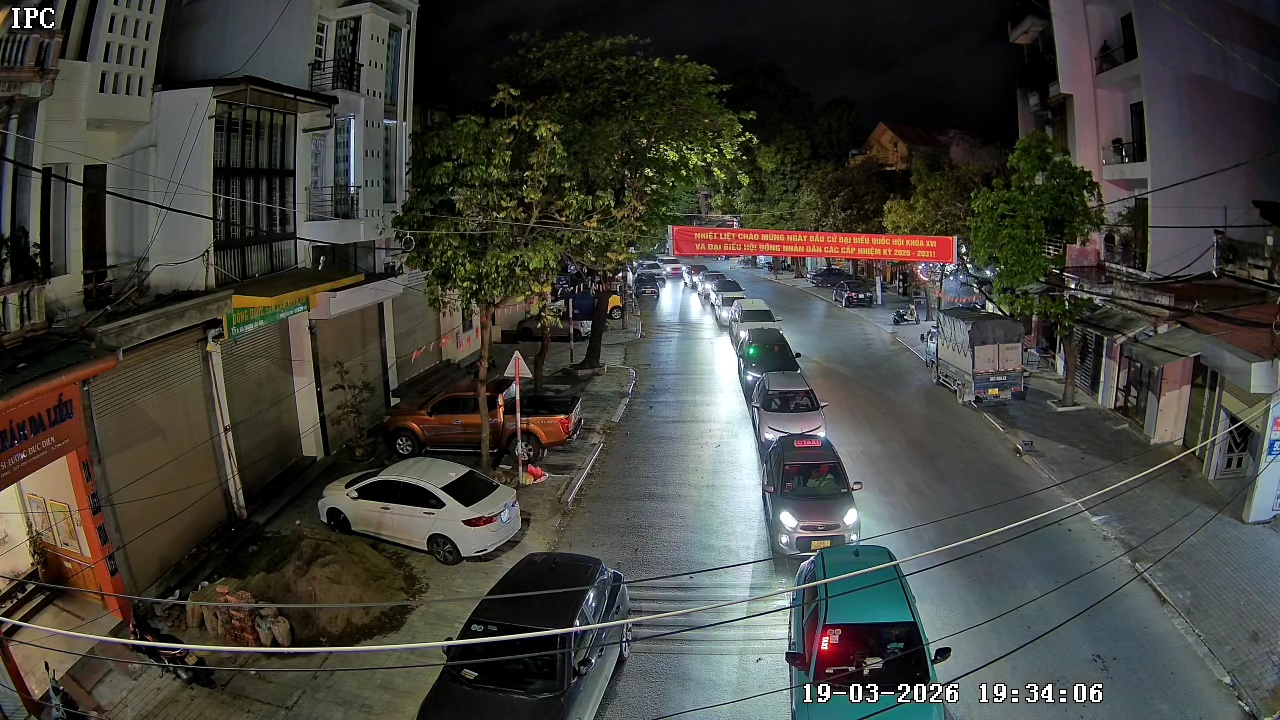car: (413, 548, 635, 719), (785, 533, 953, 719), (317, 454, 529, 560), (759, 434, 864, 557), (747, 372, 827, 450), (731, 323, 803, 395), (730, 297, 780, 333)
truck: (923, 314, 1029, 409)
